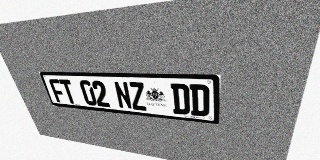0: (78, 80, 98, 106)
2: (91, 80, 110, 107)
D: (170, 83, 190, 115), (190, 84, 209, 117)
F: (48, 79, 67, 103)
N: (113, 81, 133, 109)
T: (59, 79, 78, 104)
Z: (128, 82, 147, 111)
